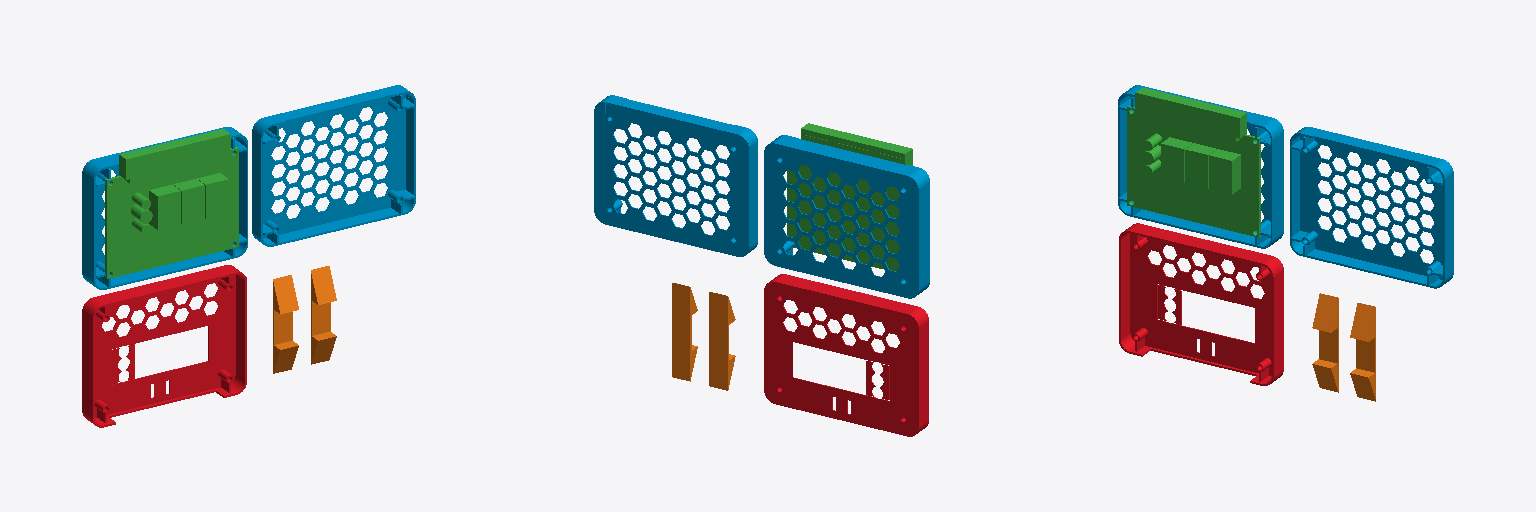
The model's file is tinker.obj.
The picture shows the model from 3 angles: view 1: azimuth 30°, elevation 25°; view 2: azimuth 150°, elevation 25°; view 3: azimuth 330°, elevation 25°; orthographic projection.
Parts seen in each view (by area): view 1: obj_0; view 2: obj_0; view 3: obj_0.
Part boxes in pixels (x1,y1,x2,y2): obj_0: (82, 85, 415, 427); obj_0: (594, 95, 929, 436); obj_0: (1118, 85, 1453, 401).
Bounding box in the file's own units: 172 × 137 × 21.06.